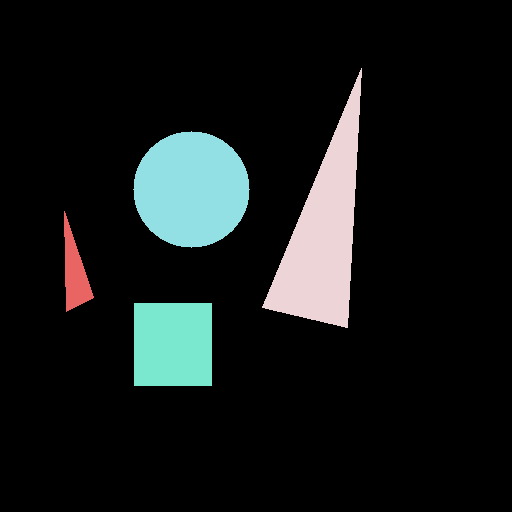circle: (133, 131, 249, 247)
square: (134, 303, 211, 385)
triangle: (262, 68, 361, 327), (64, 211, 93, 311)
